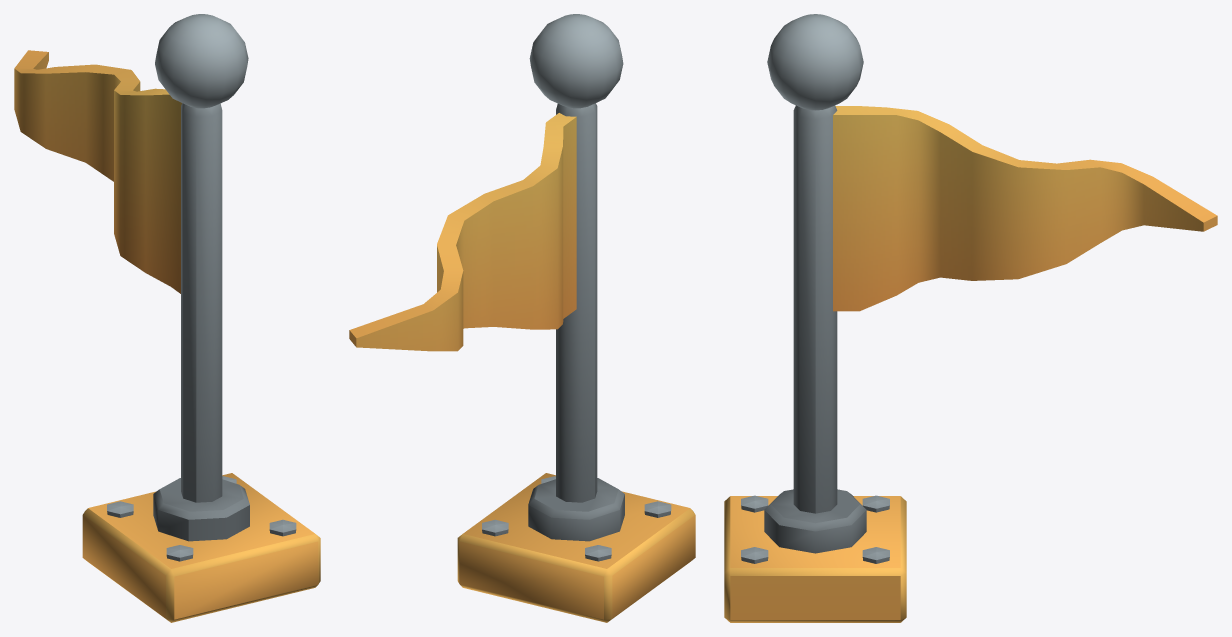
The model's file is flag_A_yellow.glb.
3 views of the same model, side by side, from view 1: azimuth 30°, elevation 25°; view 2: azimuth 150°, elevation 25°; view 3: azimuth 270°, elevation 25° (orthographic). The views are drawn at different scales.
Visible parts, largest first — view 1: flag_A_yellow; view 2: flag_A_yellow; view 3: flag_A_yellow.
Part boxes in pixels (<box>): flag_A_yellow: <box>14,14,320,622</box>; flag_A_yellow: <box>349,14,695,622</box>; flag_A_yellow: <box>724,14,1217,622</box>.
Bounding box in the file's own units: 0.6 × 2.06 × 1.62.
Materials: 1 (1 with a texture image).
